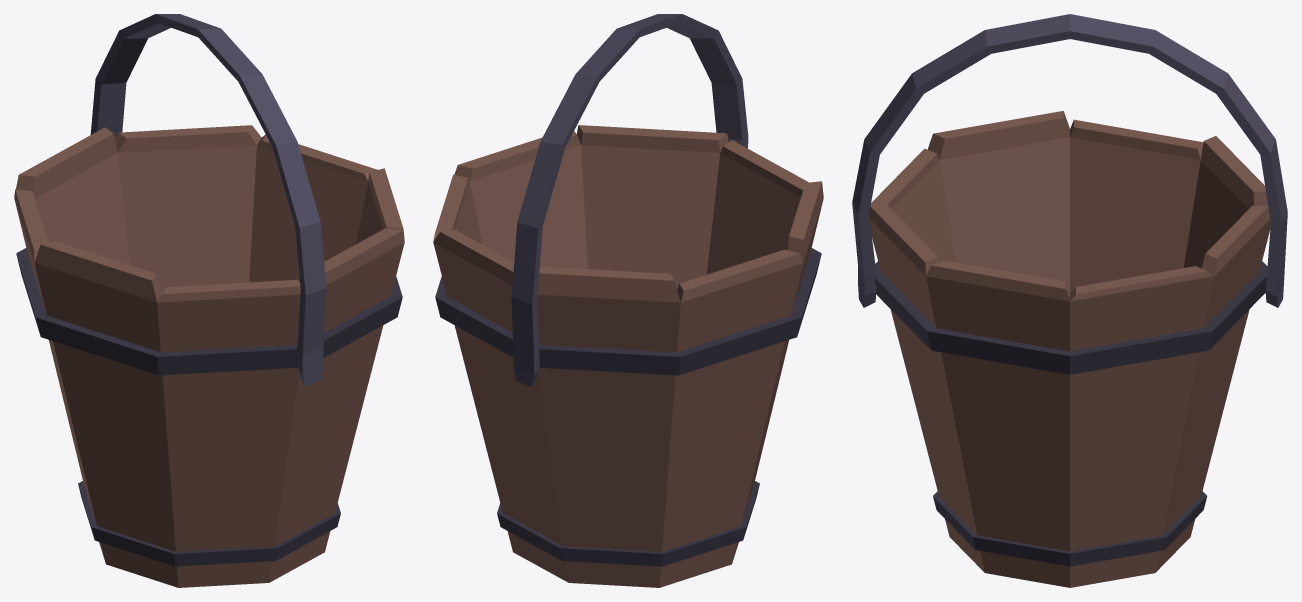
File: Bucket.glb
The picture shows the model from 3 angles, left to right: view 1: azimuth 30°, elevation 25°; view 2: azimuth 150°, elevation 25°; view 3: azimuth 270°, elevation 25°; orthographic projection.
Visible parts, largest first — view 1: Bucket; view 2: Bucket; view 3: Bucket.
Part boxes in pixels (x1,y1,x2,y2): Bucket: (14, 14, 404, 587); Bucket: (433, 14, 823, 587); Bucket: (852, 14, 1287, 587).
Size of the model in its own units: 0.3782 by 0.5294 by 0.4041.
